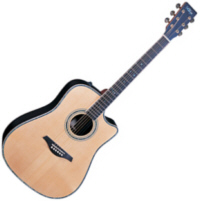guitar: (1, 1, 197, 200)
